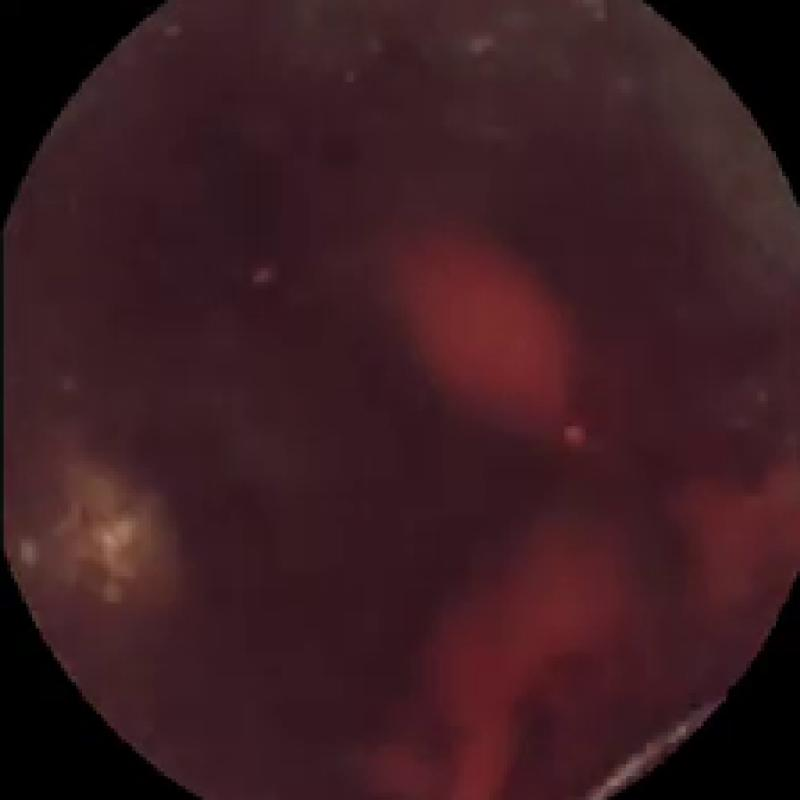bleeding: (364, 500, 625, 800), (382, 228, 579, 435), (667, 476, 800, 610)
